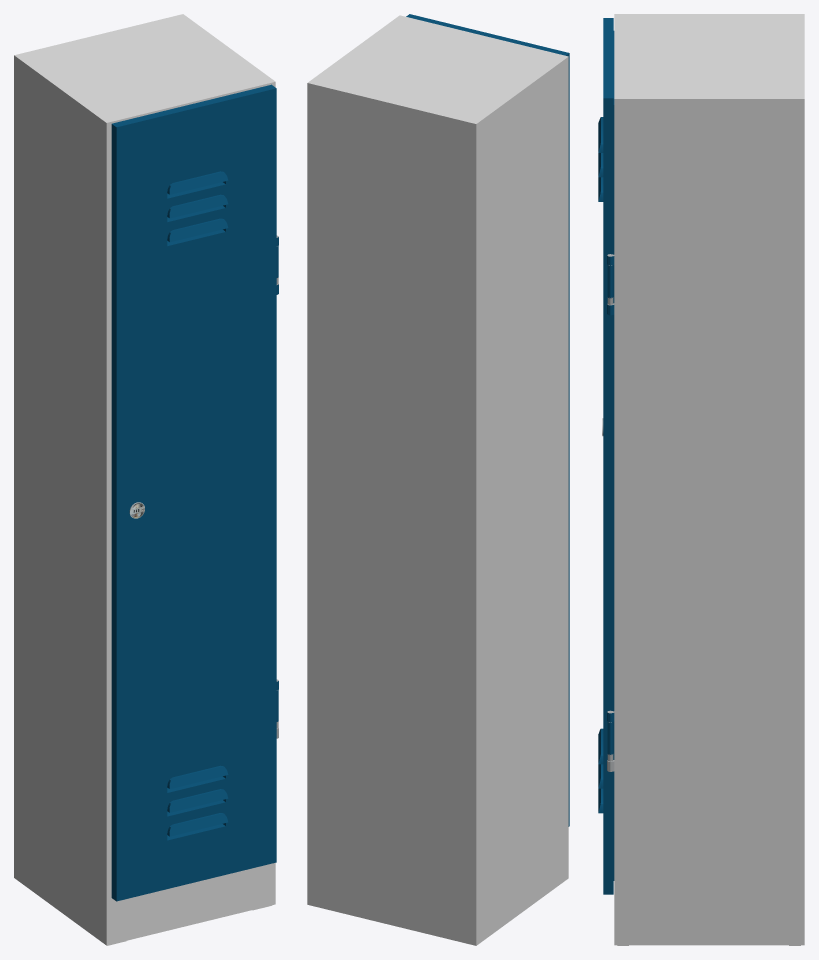
File: Locker.fbx
The picture shows the model from 3 angles, left to right: view 1: azimuth 30°, elevation 25°; view 2: azimuth 150°, elevation 25°; view 3: azimuth 270°, elevation 25°; orthographic projection. The views are drawn at different scales.
Parts seen in each view (by area): view 1: door, Locker; view 2: Locker, door; view 3: Locker, door.
Boxes of the visible parts, x1,y1,x2,y2 form: door: (111,84,278,901); Locker: (14,14,278,945); Locker: (307,15,568,945); door: (406,14,569,826); Locker: (607,14,804,945); door: (598,18,614,894).
Bounding box in the file's own units: 40.25 × 187 × 41.18.
Materials: 1 (1 with a texture image).
